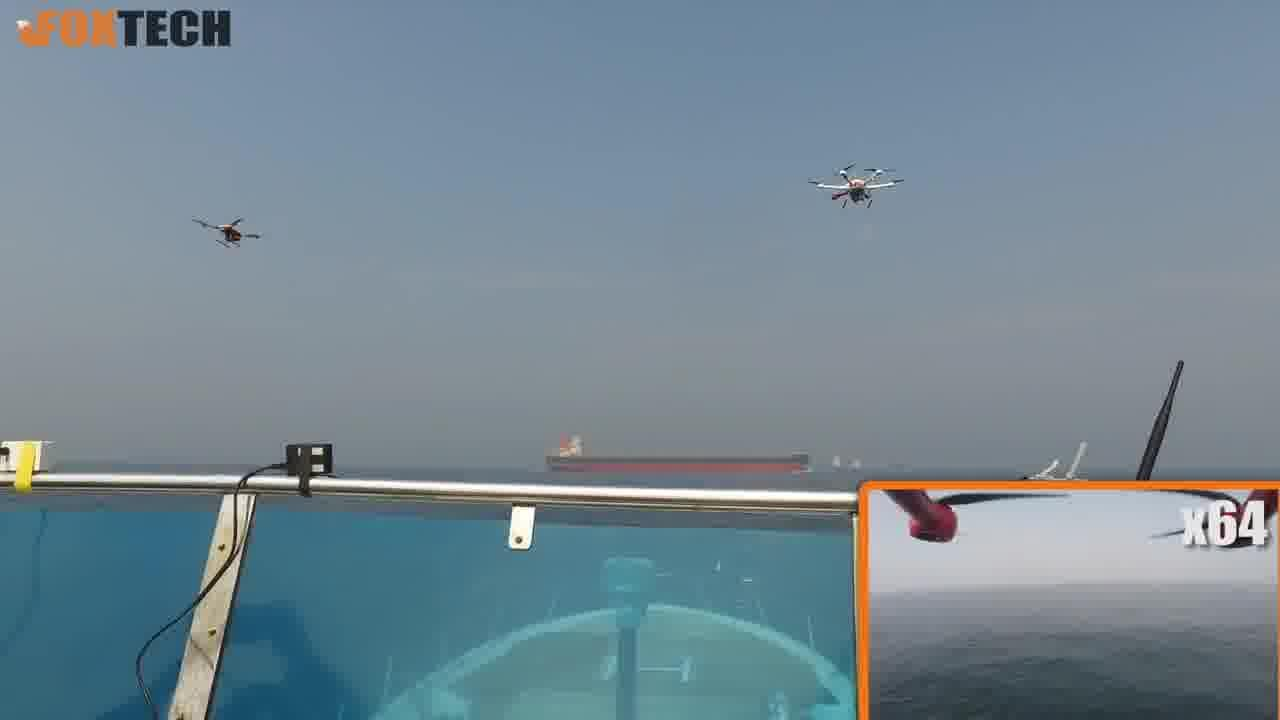drone: (805, 154, 900, 211), (190, 206, 274, 255)
